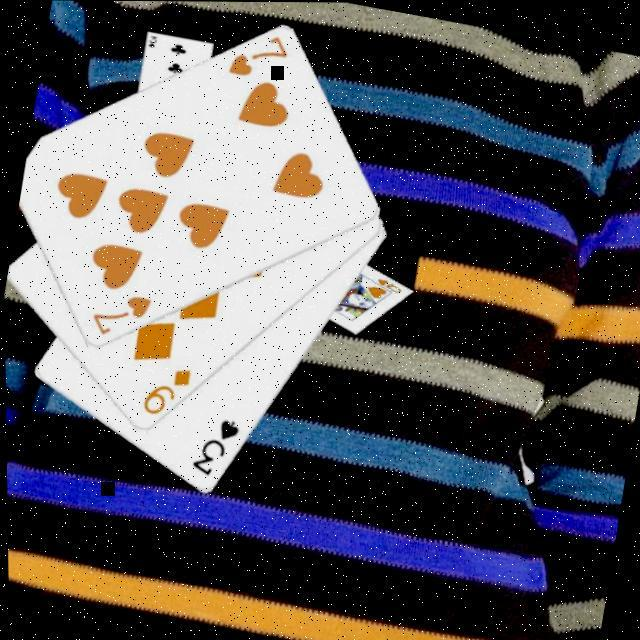3S: (183, 410, 242, 483)
7H: (222, 22, 293, 86), (83, 282, 154, 344)
9D: (134, 357, 194, 422)
